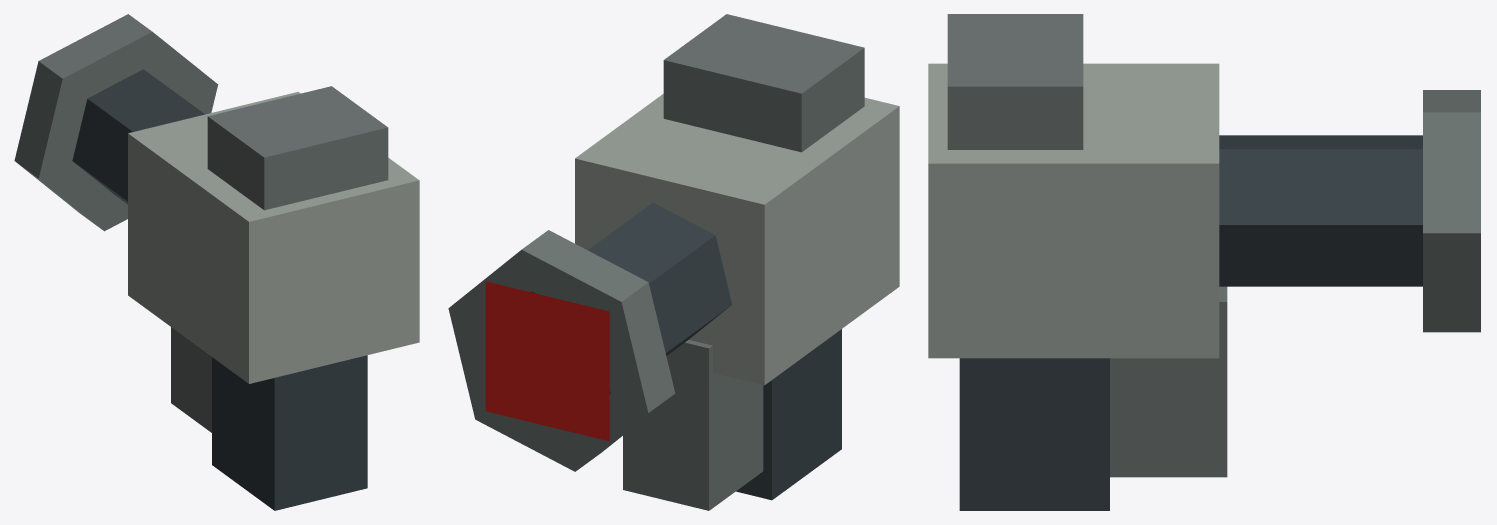
The picture shows the model from 3 angles, left to right: view 1: azimuth 30°, elevation 25°; view 2: azimuth 150°, elevation 25°; view 3: azimuth 270°, elevation 25°; orthographic projection. The views are drawn at different scales.
Visible parts, largest first — view 1: mount; view 2: mount; view 3: mount.
Part boxes in pixels (bbox=[...]): mount: bbox=[14, 14, 419, 510]; mount: bbox=[448, 14, 899, 510]; mount: bbox=[928, 14, 1480, 510].
Size of the model in its own units: 4.52 by 8.68 by 10.06.
